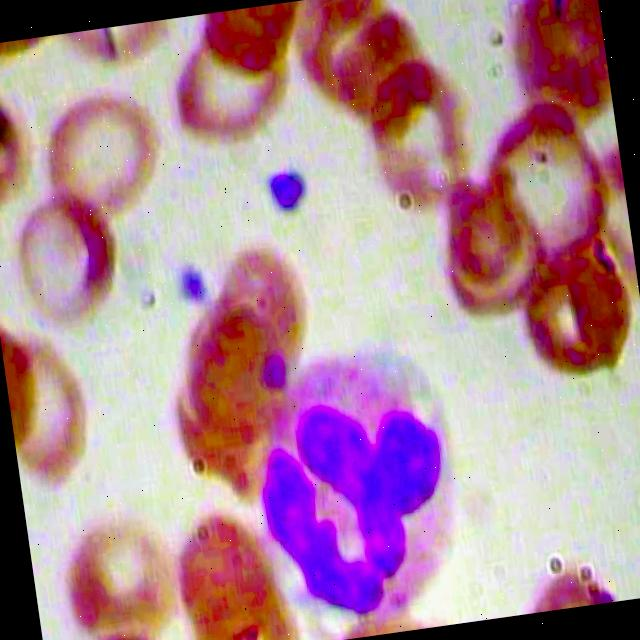Platelets: (262, 158, 314, 222), (163, 246, 215, 310)
RBC: (352, 50, 491, 214), (30, 70, 168, 230), (0, 170, 134, 330), (509, 224, 640, 387), (485, 0, 617, 152), (0, 324, 110, 500), (46, 506, 184, 640), (164, 29, 300, 150), (189, 0, 320, 82)
WBC: (227, 331, 504, 640)
